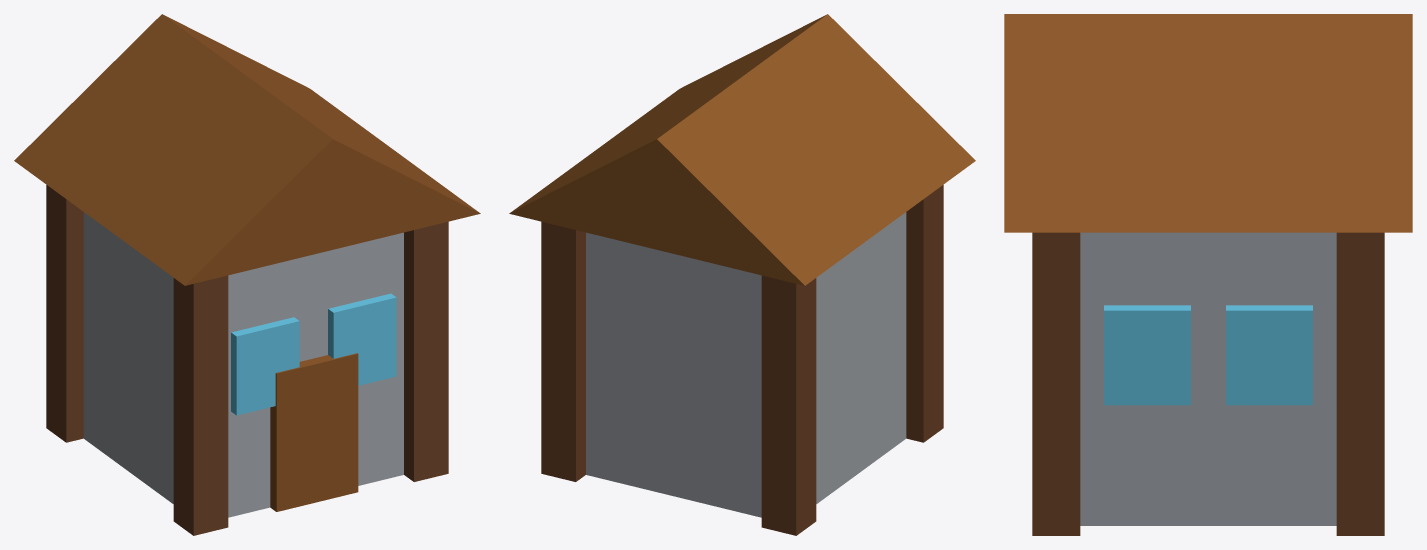
Rendered from well.glb.
3 views of the same model, side by side, from view 1: azimuth 30°, elevation 25°; view 2: azimuth 150°, elevation 25°; view 3: azimuth 270°, elevation 25° (orthographic). The views are drawn at different scales.
Parts seen in each view (by area): view 1: beams; view 2: beams; view 3: beams.
Part boxes in pixels (<box>): beams: <box>14,14,480,535</box>; beams: <box>509,14,975,535</box>; beams: <box>1004,14,1412,535</box>.
Bounding box in the file's own units: 0.94 × 1.14 × 0.94.
